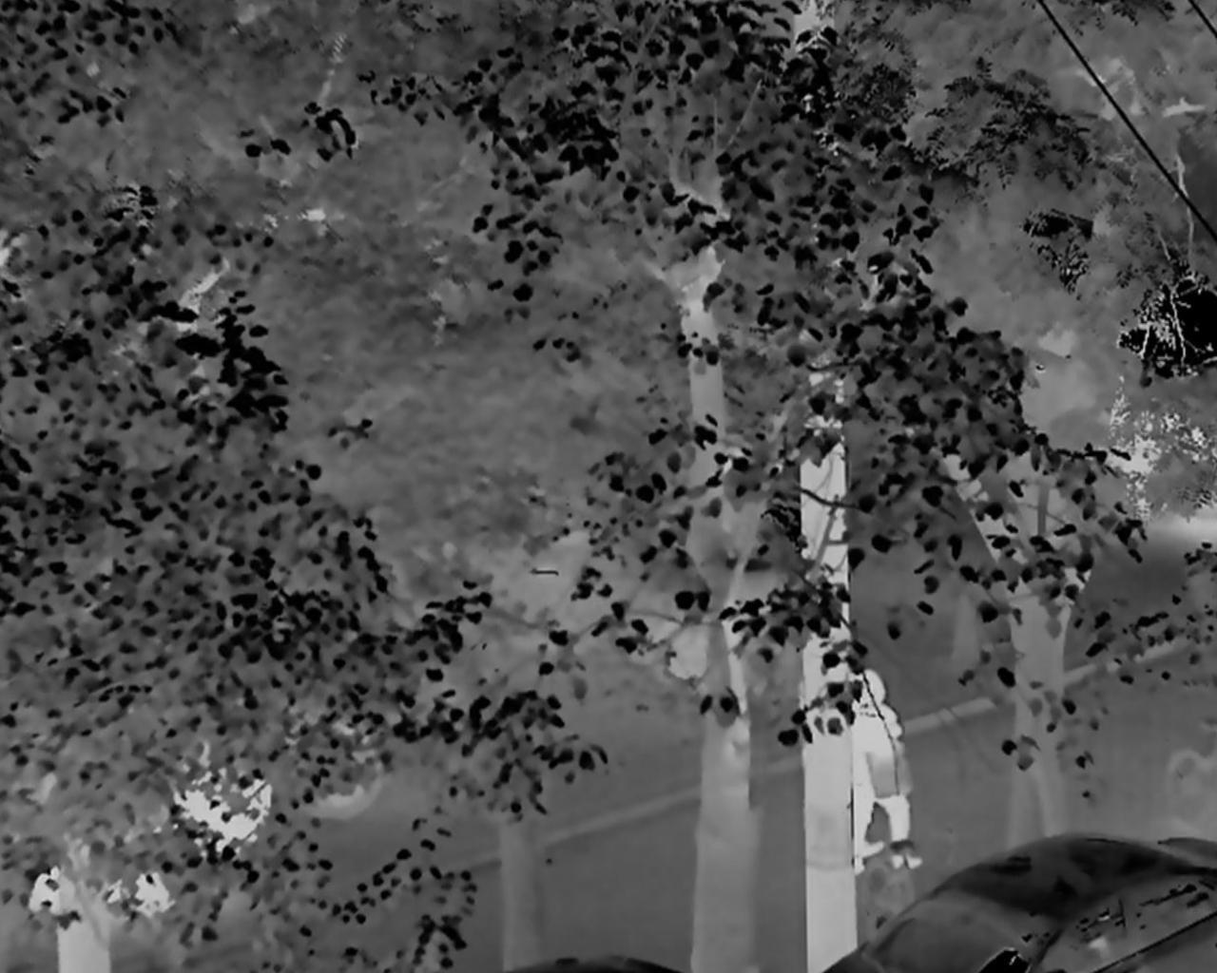person: (852, 664, 928, 872)
